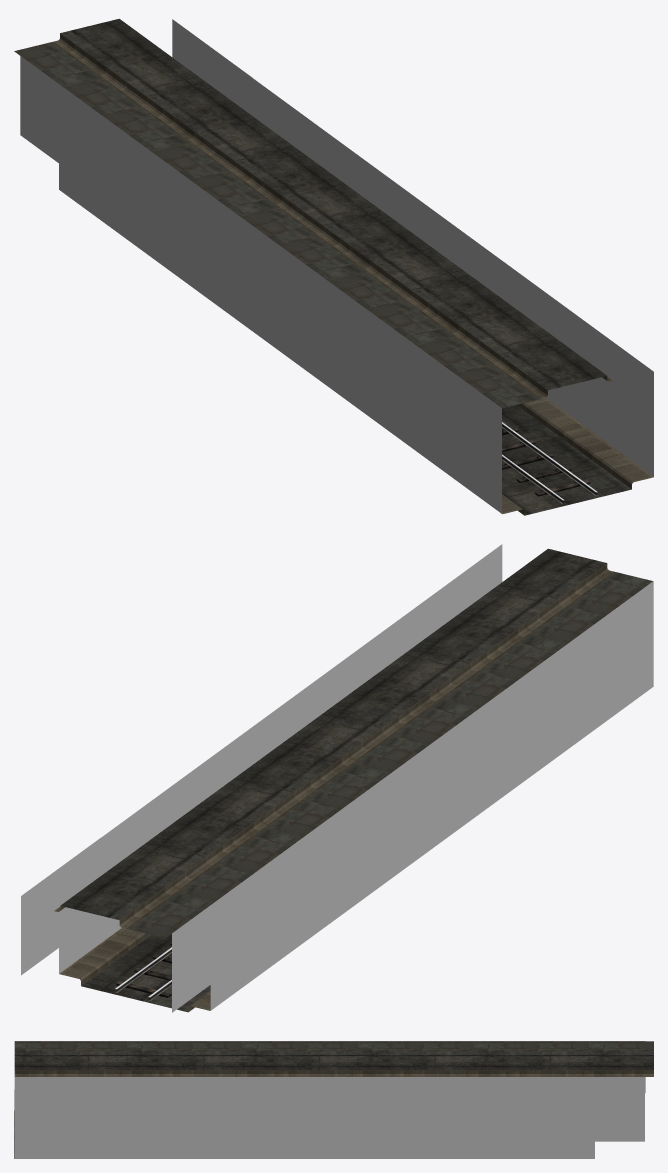
File: MideTunnelState.fbx
3 renders of one model, top to bottom at view 1: azimuth 30°, elevation 25°; view 2: azimuth 150°, elevation 25°; view 3: azimuth 270°, elevation 25°, orthographic. The views are drawn at different scales.
Visible parts, largest first — view 1: MideTunnelState; view 2: MideTunnelState; view 3: MideTunnelState.
Part boxes in pixels (x1,y1,x2,y2): MideTunnelState: (14,18,653,515); MideTunnelState: (21,544,653,1012); MideTunnelState: (14,1041,653,1158).
Bounding box in the file's own units: 732 × 556 × 4081.
